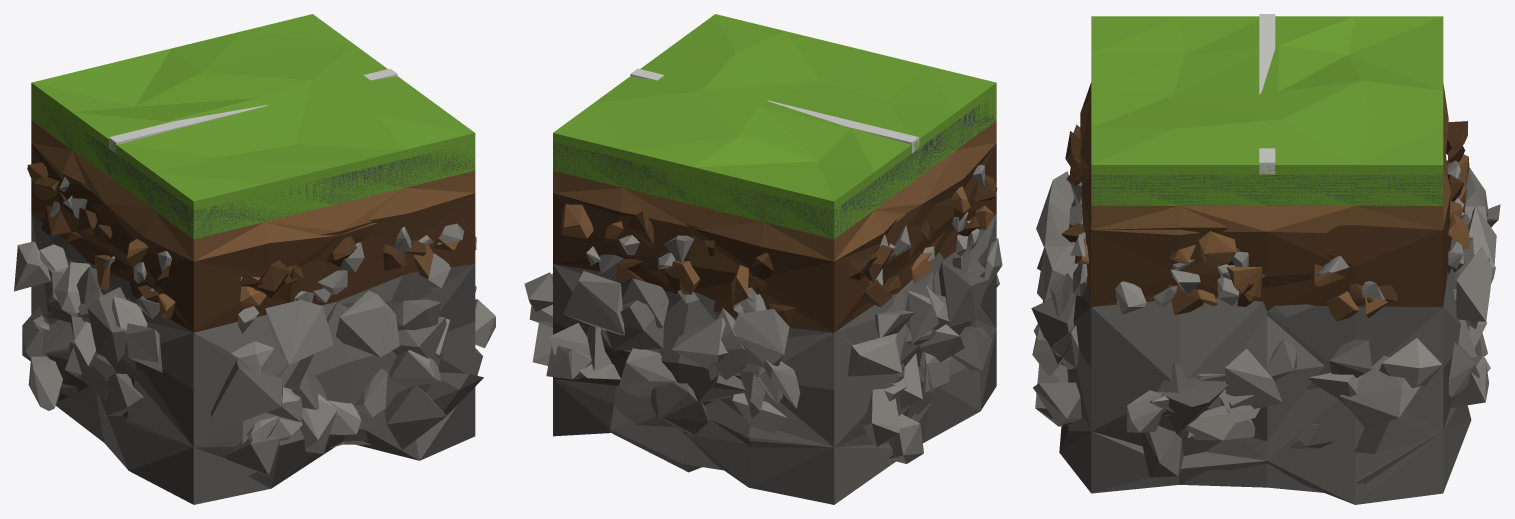
File: DioramaKit.fbx
3 views of the same model, side by side, from view 1: azimuth 30°, elevation 25°; view 2: azimuth 150°, elevation 25°; view 3: azimuth 270°, elevation 25° (orthographic). The views are drawn at different scales.
Visible parts, largest first — view 1: Dio_Tile_Grass, Dio_Tile_ParkingLot, Dio_Tile_Slab, Dio_Curb; view 2: Dio_Tile_Grass, Dio_Tile_Slab, Dio_Tile_ParkingLot, Dio_Curb; view 3: Dio_Tile_Grass, Dio_Tile_Slab, Dio_Tile_ParkingLot, Dio_Curb.
Part boxes in pixels (x1=…): Dio_Tile_Grass: x1=28, y1=14, x2=495, y2=460; Dio_Tile_ParkingLot: x1=27, y1=104, x2=483, y2=504; Dio_Tile_Slab: x1=14, y1=142, x2=475, y2=504; Dio_Curb: x1=109, y1=68, x2=397, y2=152; Dio_Tile_Grass: x1=532, y1=14, x2=999, y2=504; Dio_Tile_Slab: x1=549, y1=188, x2=1002, y2=503; Dio_Tile_ParkingLot: x1=524, y1=100, x2=997, y2=504; Dio_Curb: x1=630, y1=68, x2=919, y2=153; Dio_Tile_Grass: x1=1034, y1=16, x2=1495, y2=504; Dio_Tile_Slab: x1=1035, y1=82, x2=1500, y2=492; Dio_Tile_ParkingLot: x1=1031, y1=96, x2=1496, y2=493; Dio_Curb: x1=1259, y1=14, x2=1275, y2=174.
Size of the model in its own units: 3.5 by 2.79 by 3.53.
